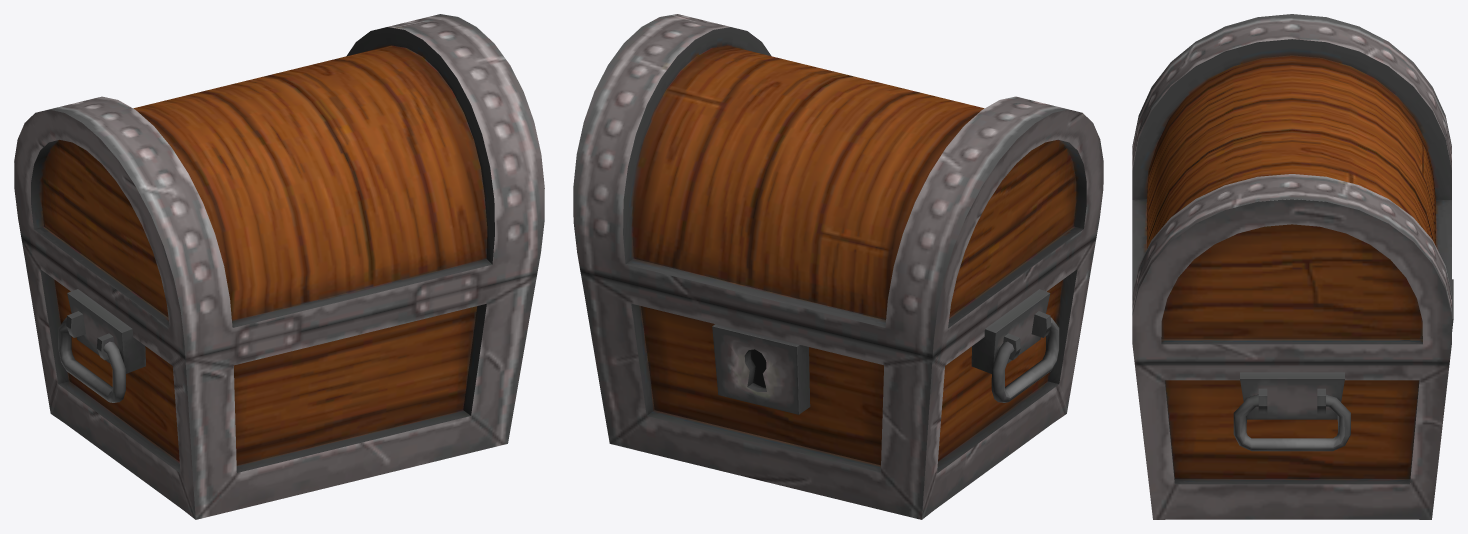
The model's file is Cofre.fbx.
The picture shows the model from 3 angles, left to right: view 1: azimuth 30°, elevation 25°; view 2: azimuth 150°, elevation 25°; view 3: azimuth 270°, elevation 25°; orthographic projection. The views are drawn at different scales.
Visible parts, largest first — view 1: Tapa, Caja; view 2: Tapa, Caja; view 3: Tapa, Caja.
Part boxes in pixels (bbox=[...]): Tapa: bbox=[14, 14, 544, 358]; Caja: bbox=[21, 239, 537, 519]; Tapa: bbox=[573, 14, 1103, 358]; Caja: bbox=[580, 239, 1096, 519]; Tapa: bbox=[1132, 14, 1451, 362]; Caja: bbox=[1134, 279, 1453, 519].
Bounding box in the file's own units: 0.8595 × 0.7372 × 0.6308.
